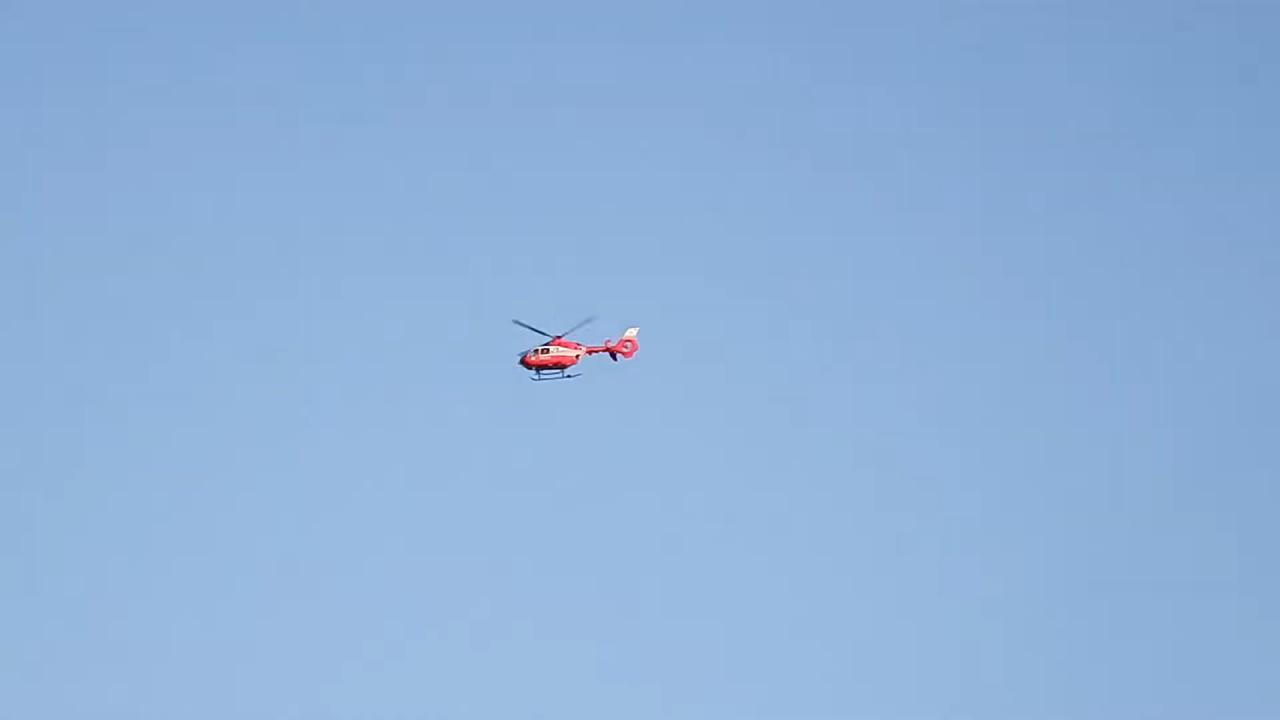Helicopter: (485, 294, 665, 411)
